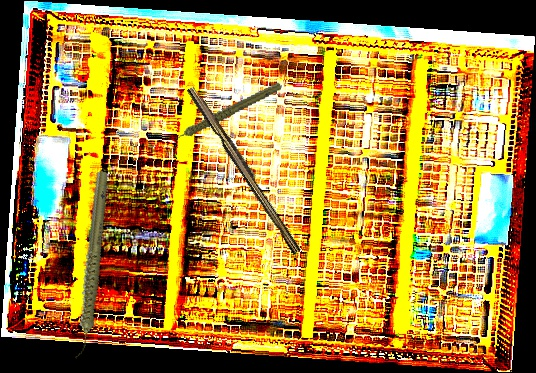Handpiece: (33, 168, 147, 361), (159, 81, 289, 143)
Scalpel Handle: (183, 84, 307, 255)
